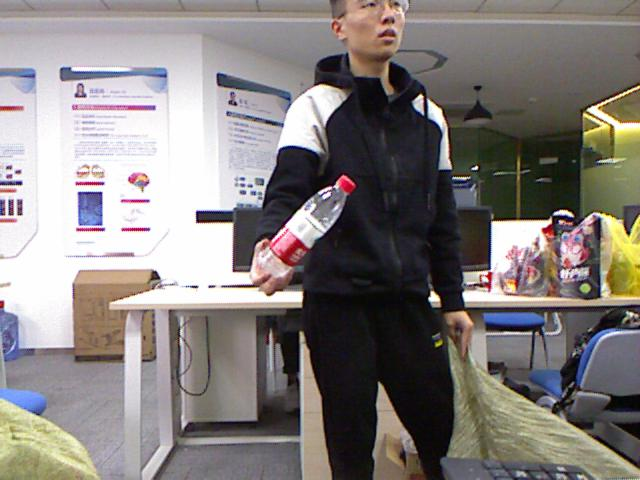cardboard paper: (73, 270, 158, 361)
plastic: (260, 175, 355, 277)
